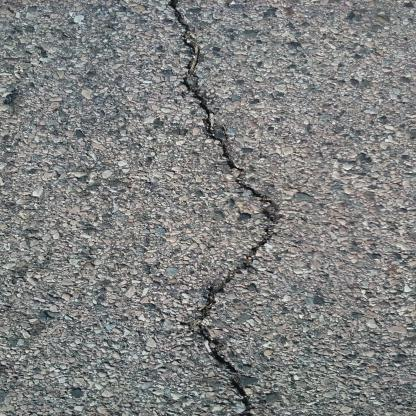Cracks: (161, 0, 293, 415)
